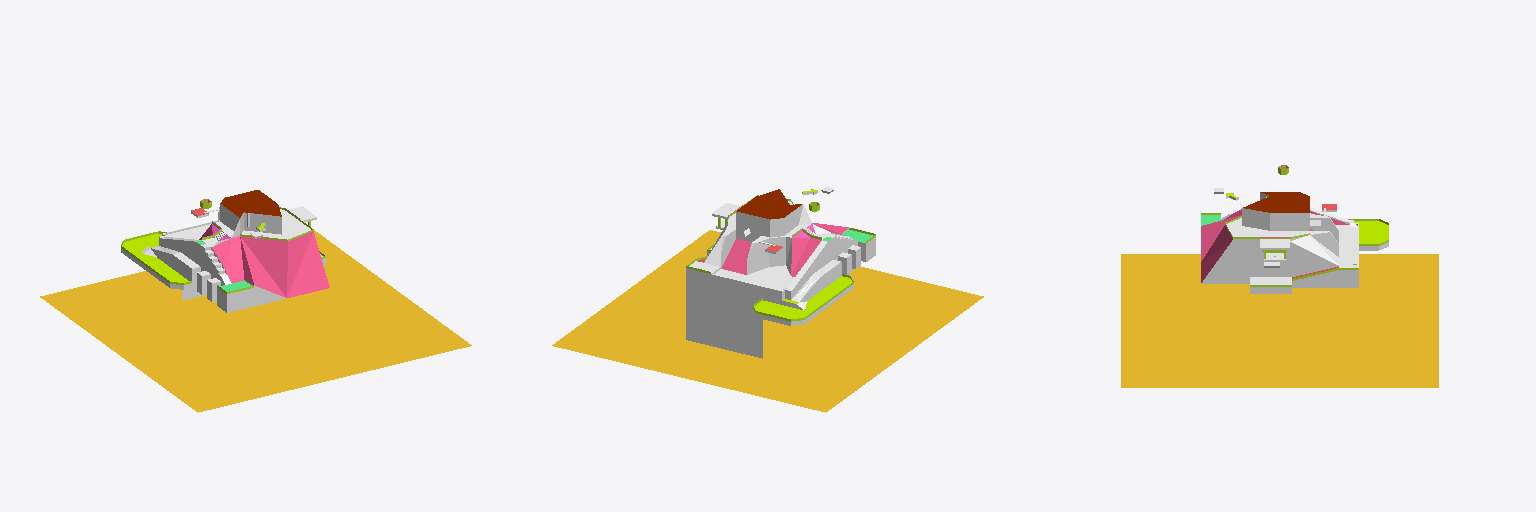
The model's file is Whomp's Fortress Area 1.obj.
3 renders of one model, left to right at view 1: azimuth 30°, elevation 25°; view 2: azimuth 150°, elevation 25°; view 3: azimuth 270°, elevation 25°, orthographic.
Size of the model in its own units: 32766 by 14886 by 32766.